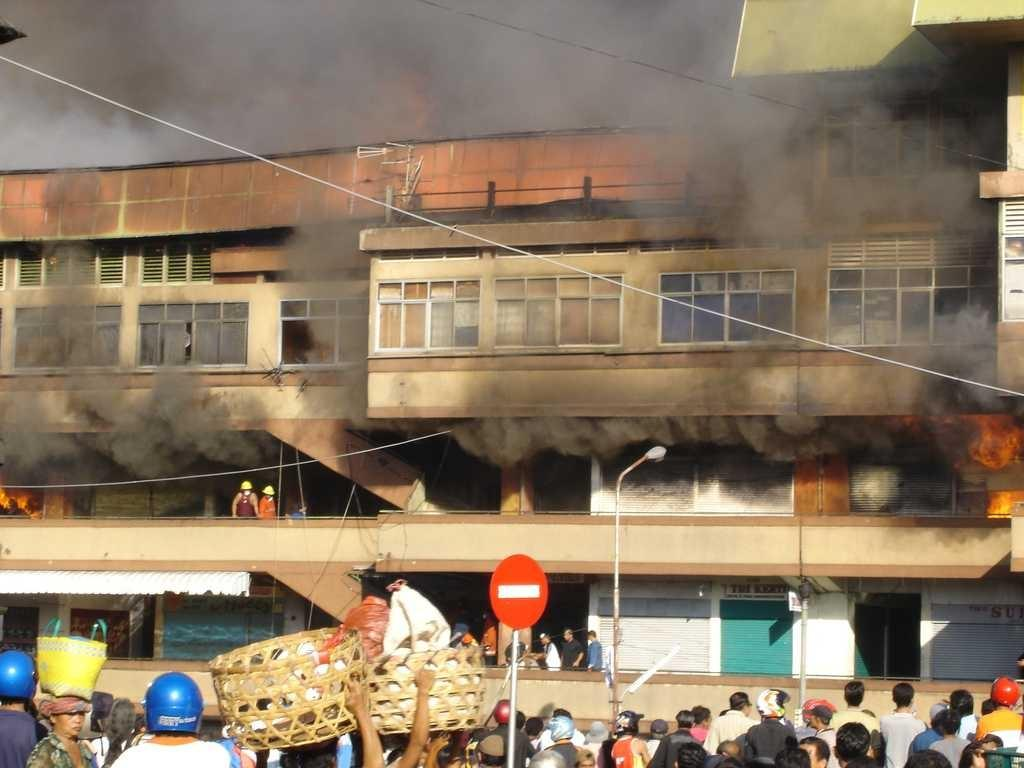fire: (966, 416, 1012, 464), (4, 484, 52, 516), (990, 500, 1012, 528)
smoke: (32, 4, 744, 138), (478, 410, 924, 462)
